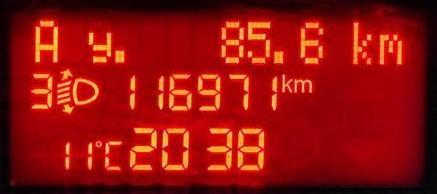-: (111, 48, 126, 65), (273, 48, 285, 66)
0: (158, 125, 191, 172)
1: (123, 70, 142, 112), (264, 73, 279, 113), (57, 138, 75, 171), (152, 71, 166, 111), (81, 139, 92, 171)
2: (126, 123, 155, 172)
3: (201, 124, 231, 172), (26, 68, 54, 112)
5: (245, 18, 273, 66)
6: (297, 18, 326, 67), (167, 70, 192, 112)
7: (224, 70, 251, 111)
8: (234, 125, 267, 172), (217, 19, 245, 65)
9: (194, 70, 221, 113)
X: (32, 18, 60, 64), (348, 18, 373, 67), (375, 31, 407, 66), (83, 28, 112, 64), (103, 138, 122, 172), (293, 77, 312, 93), (279, 70, 292, 93)
